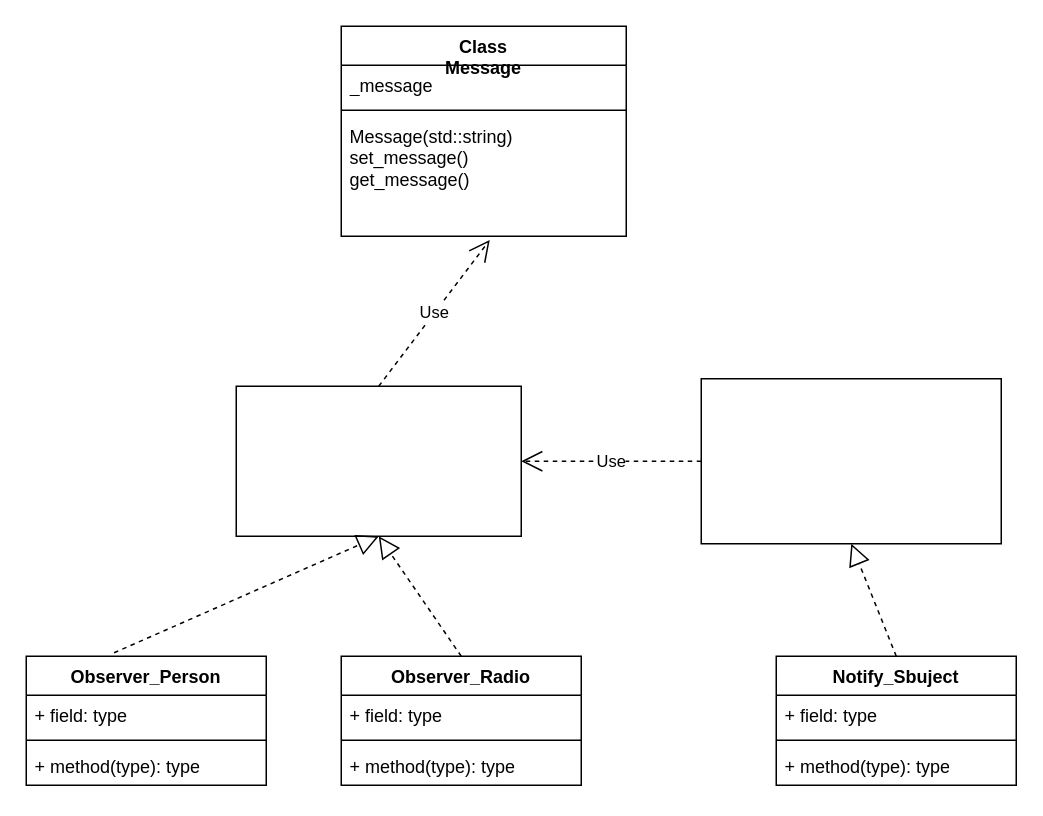
Some shapes in this 1043 by 816 pixel diagram are drawn without their labels. Here are the shapes that lost their labels. From the top down, the centre of each, then its label:
At pixel 378 460: "<<Interface>> Observer notification(Message*)".
At pixel 850 460: "<<Interface>> Subject add_observer() remove() notify() set_message()".
